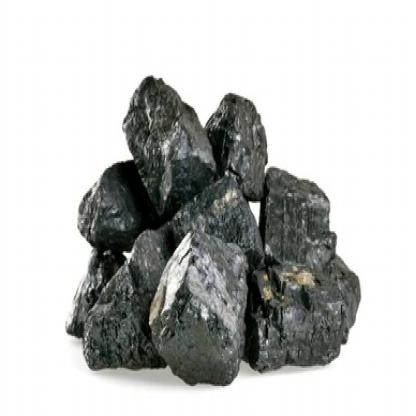Sedimentary_coal: (244, 251, 368, 378), (153, 236, 253, 378), (131, 75, 216, 200), (259, 165, 341, 271), (202, 76, 271, 196), (75, 264, 153, 364), (72, 153, 153, 248)
